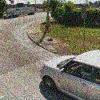cars: (39, 49, 100, 98)
